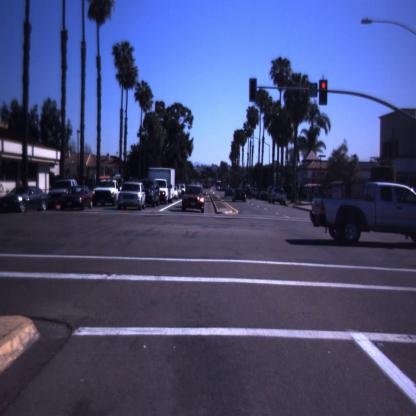trafficlight: (318, 76, 330, 106)
